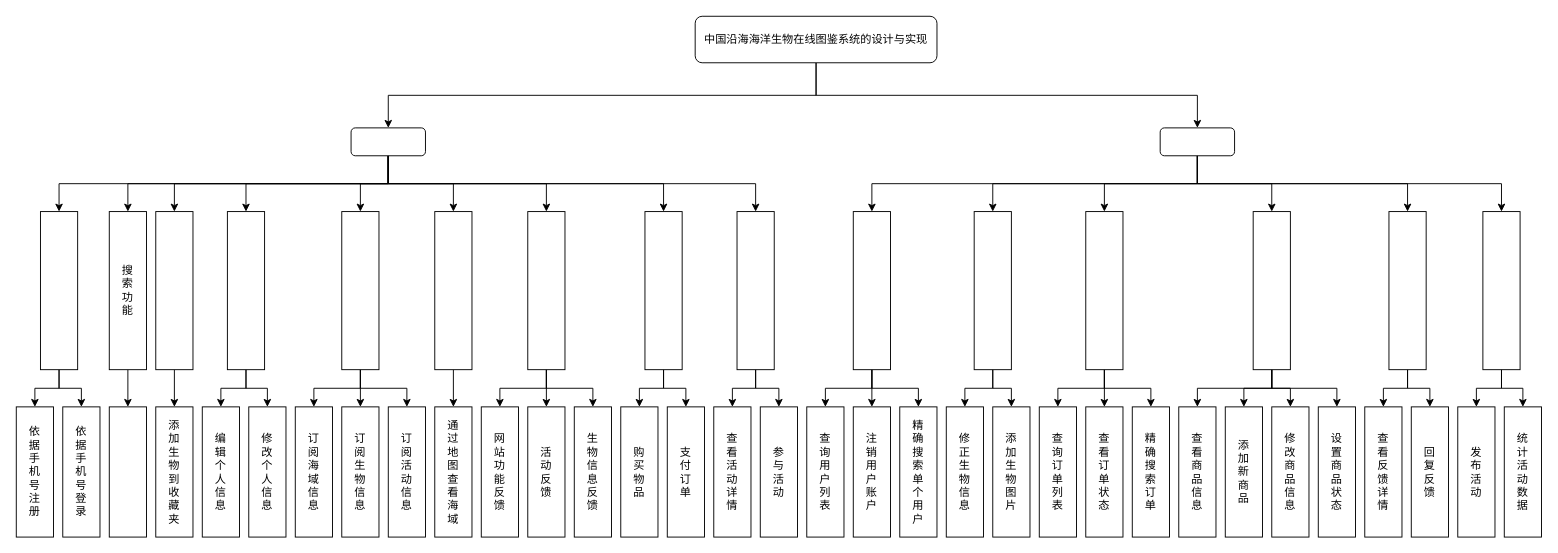
The diagram is 1558 pixels wide and 553 high, and some of its shapes have lost their labels. The shapes that lost their labels are listed below. From the top down, each one's centre as x and y in pixels, then its label:
At pixel 387 141: "用户端".
At pixel 1197 141: "管理端".
At pixel 59 290: "登 录 注 册 功 能".
At pixel 174 290: "收 藏 功 能".
At pixel 245 290: "个 人 信 息 维 护 功 能".
At pixel 360 290: "订 阅 更 新 功 能".
At pixel 453 290: "地 图 查 验 功 能".
At pixel 546 290: "反 馈 功 能".
At pixel 663 290: "支 付 购 买 功 能".
At pixel 755 290: "活 动 功 能".
At pixel 871 290: "用 户 管 理".
At pixel 992 290: "内 容 详 细 管 理".
At pixel 1104 290: "订 单 管 理".
At pixel 1271 290: "商 品 管 理".
At pixel 1407 290: "用 户 反 馈 管 理".
At pixel 1501 290: "活 动 管 理".
At pixel 127 471: "根 据 关 键 词 模 糊 搜 索".
